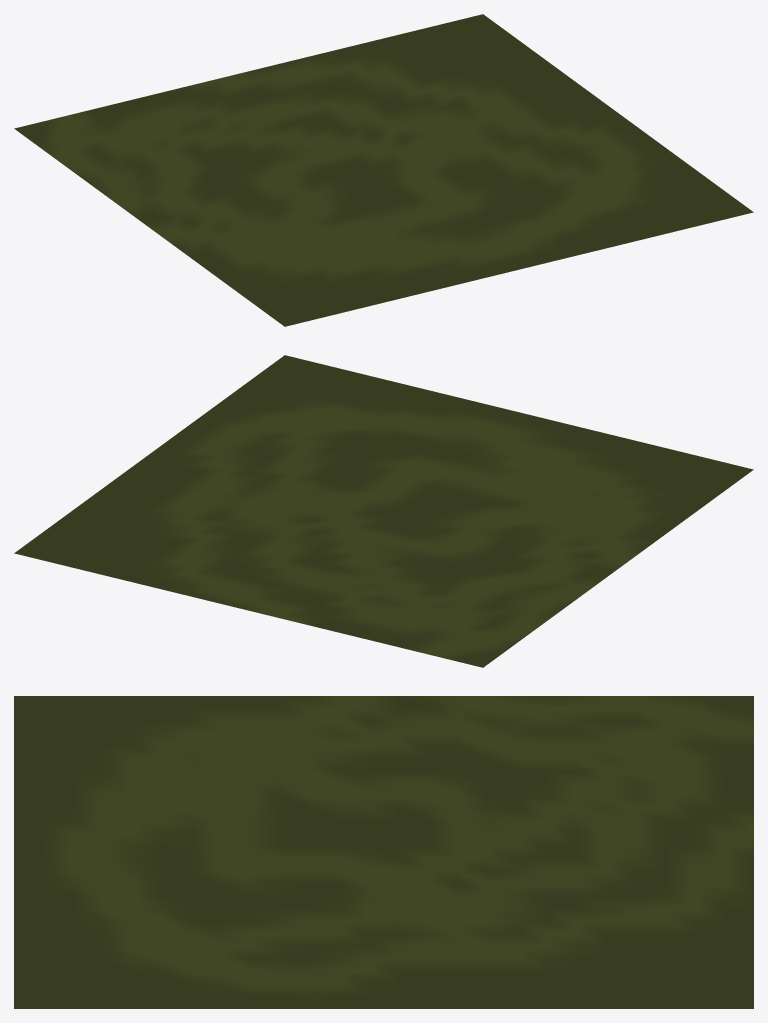
The model's file is SM_Terrain_Plains.fbx.
3 views of the same model, one above another, from view 1: azimuth 30°, elevation 25°; view 2: azimuth 150°, elevation 25°; view 3: azimuth 270°, elevation 25° (orthographic). The views are drawn at different scales.
Visible parts, largest first — view 1: SM_Terrain_Plains; view 2: SM_Terrain_Plains; view 3: SM_Terrain_Plains.
Part boxes in pixels (x1,y1,x2,y2): SM_Terrain_Plains: (14,14,753,326); SM_Terrain_Plains: (14,355,753,667); SM_Terrain_Plains: (14,696,753,1008).
Bounding box in the file's own units: 38400 × 0 × 38400.
